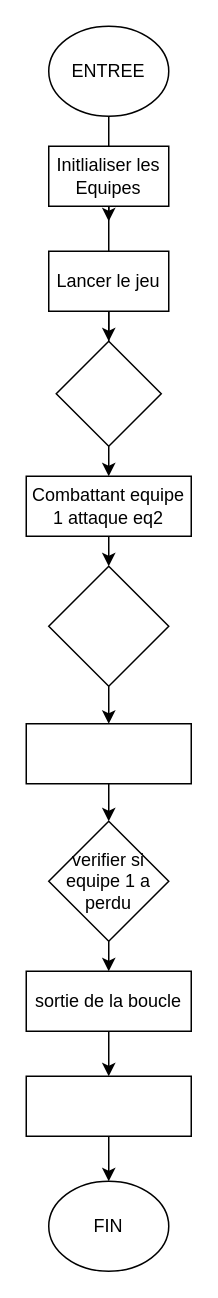
This 218x1298 diagram has some shape labels left out. The centre of each missing label's shape, as x and y in pixels:
afficher équipe gagnante: (x=108, y=1105)
si non equipe adverse attaque: (x=108, y=753)
tant qu'aucune equipe n'a perdu: (x=108, y=393)
verifier si equipe adverse a perdu: (x=108, y=625)
